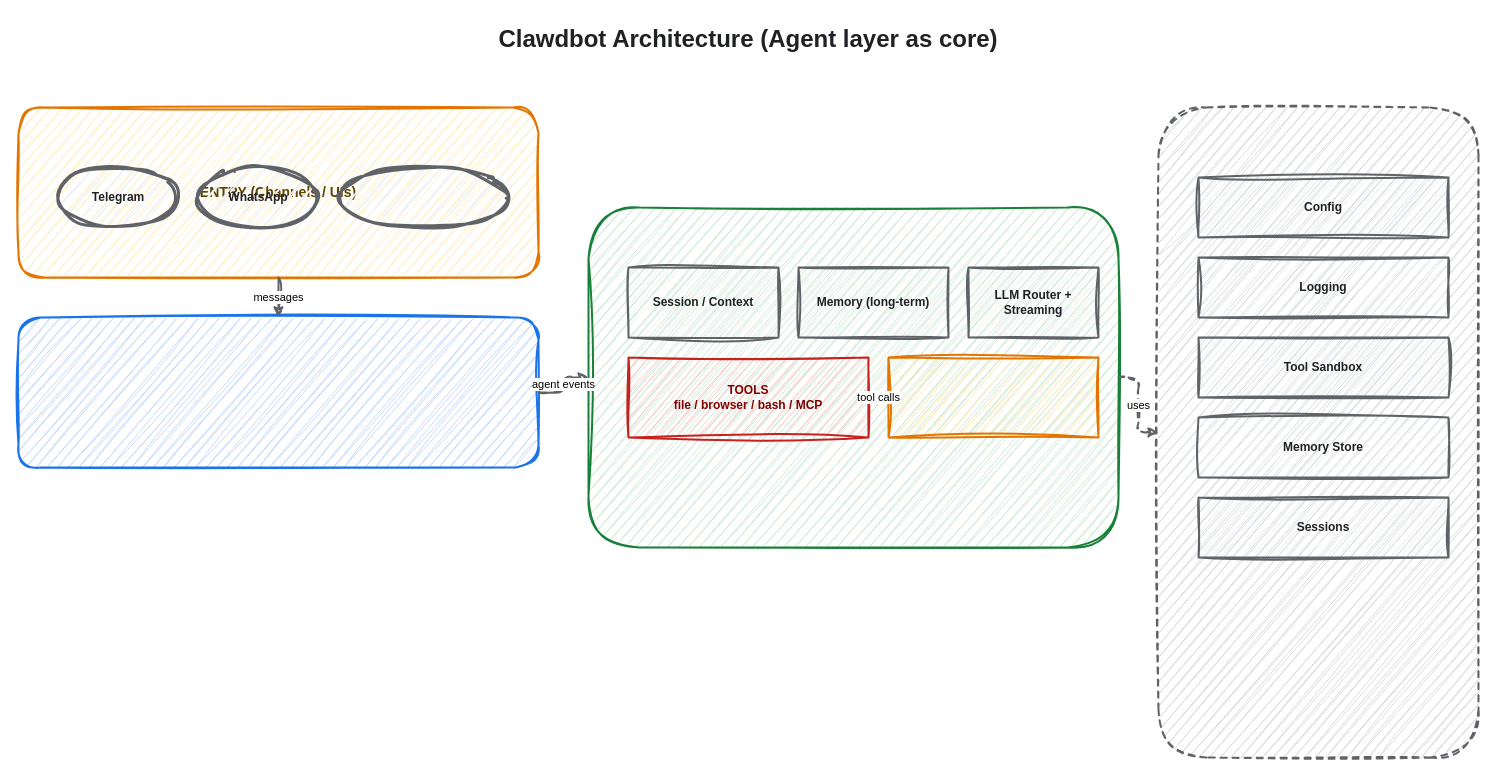
The diagram is 1496 pixels wide and 775 high, and some of its shapes have lost their labels. The shapes that lost their labels are listed below. From the top down, each one's box as (x1, y1, x2, y2) in pixels, then its label:
(336, 166, 510, 228): CLI / Web UI
(17, 316, 539, 468): GATEWAY (WS/HTTP) :18789 channels + pairing + cron
(587, 206, 1119, 548): AGENT CORE (runtime)
(887, 356, 1099, 438): Hooks PreToolUse / PostToolUse
(1157, 106, 1479, 758): INFRA (servant utilities)
